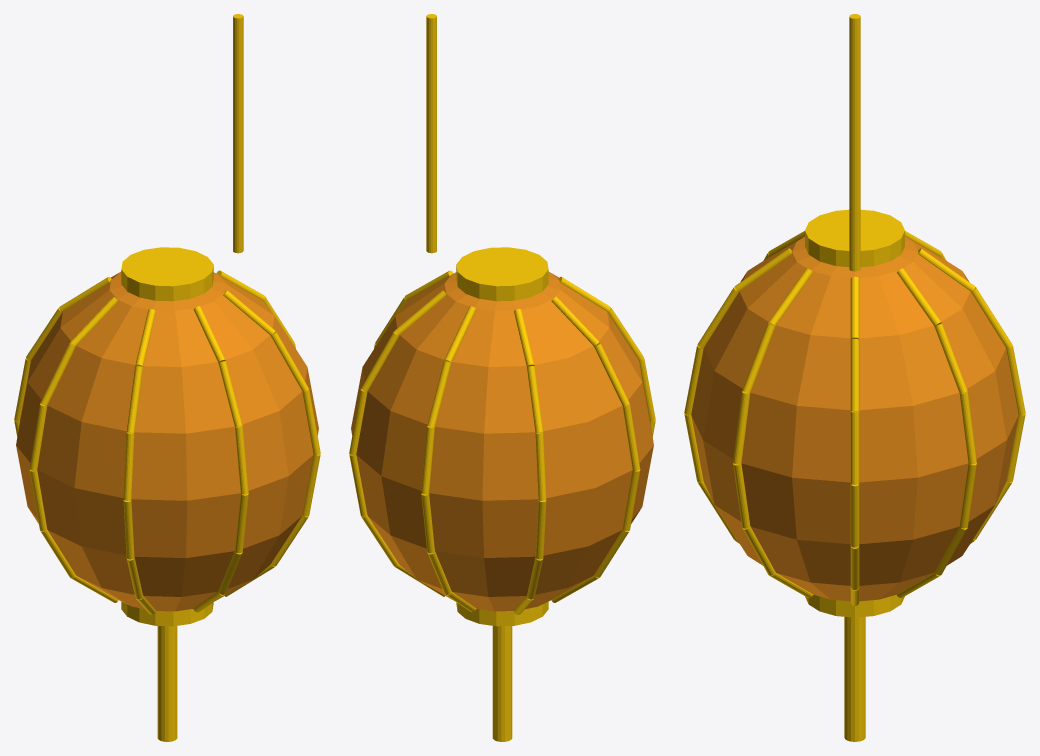
Rendered from source-edit.glb.
3 renders of one model, left to right at view 1: azimuth 30°, elevation 25°; view 2: azimuth 150°, elevation 25°; view 3: azimuth 270°, elevation 25°, orthographic. The views are drawn at different scales.
Visible parts, largest first — view 1: Lantern_1_Body, Lantern_1_Cap.001, Hanger.001, Tassel.001, Lantern_1_Cap, Lantern_1_Rib.038, Lantern_1_Rib.032, Lantern_1_Rib.037, Lantern_1_Rib.031, Lantern_1_Rib.025, Lantern_1_Rib.026, Lantern_1_Rib.044 (+4 smaller); view 2: Lantern_1_Body, Lantern_1_Cap.001, Hanger.001, Tassel.001, Lantern_1_Cap, Lantern_1_Rib.014, Lantern_1_Rib.020, Lantern_1_Rib.013, Lantern_1_Rib.019, Lantern_1_Rib.025, Lantern_1_Rib.026, Lantern_1_Rib.008 (+4 smaller); view 3: Lantern_1_Body, Lantern_1_Cap.001, Hanger.001, Tassel.001, Lantern_1_Cap, Lantern_1_Rib.002, Lantern_1_Rib.001, Lantern_1_Rib.008, Lantern_1_Rib.044, Lantern_1_Rib.007, Lantern_1_Rib.043, Lantern_1_Rib.003 (+5 smaller).
Part boxes in pixels (x1,y1,x2,y2): Lantern_1_Body: [16, 272, 318, 611]; Lantern_1_Cap.001: [121, 247, 213, 301]; Hanger.001: [233, 14, 243, 253]; Tassel.001: [157, 626, 177, 741]; Lantern_1_Cap: [121, 601, 213, 626]; Lantern_1_Rib.038: [235, 426, 248, 494]; Lantern_1_Rib.032: [123, 432, 134, 500]; Lantern_1_Rib.037: [218, 361, 242, 427]; Lantern_1_Rib.031: [126, 366, 142, 433]; Lantern_1_Rib.025: [40, 343, 75, 406]; Lantern_1_Rib.026: [29, 403, 47, 470]; Lantern_1_Rib.044: [302, 389, 320, 455]; Lantern_1_Body: [351, 272, 653, 611]; Lantern_1_Cap.001: [456, 247, 548, 301]; Hanger.001: [426, 14, 436, 253]; Tassel.001: [492, 626, 512, 741]; Lantern_1_Cap: [456, 601, 548, 626]; Lantern_1_Rib.014: [421, 426, 434, 494]; Lantern_1_Rib.020: [535, 432, 546, 500]; Lantern_1_Rib.013: [427, 361, 451, 427]; Lantern_1_Rib.019: [527, 366, 543, 433]; Lantern_1_Rib.025: [594, 343, 629, 406]; Lantern_1_Rib.026: [622, 403, 640, 470]; Lantern_1_Rib.008: [349, 389, 367, 455]; Lantern_1_Body: [691, 236, 1018, 601]; Lantern_1_Cap.001: [805, 209, 904, 267]; Hanger.001: [849, 14, 860, 271]; Tassel.001: [844, 616, 865, 741]; Lantern_1_Cap: [805, 595, 904, 617]; Lantern_1_Rib.002: [850, 411, 859, 484]; Lantern_1_Rib.001: [850, 339, 859, 411]; Lantern_1_Rib.008: [959, 391, 976, 464]; Lantern_1_Rib.044: [733, 391, 750, 464]; Lantern_1_Rib.007: [934, 323, 967, 393]; Lantern_1_Rib.043: [742, 323, 775, 393]; Lantern_1_Rib.003: [850, 484, 859, 547].
Bounding box in the file's own units: 0.4773 × 1.17 × 0.4773.
